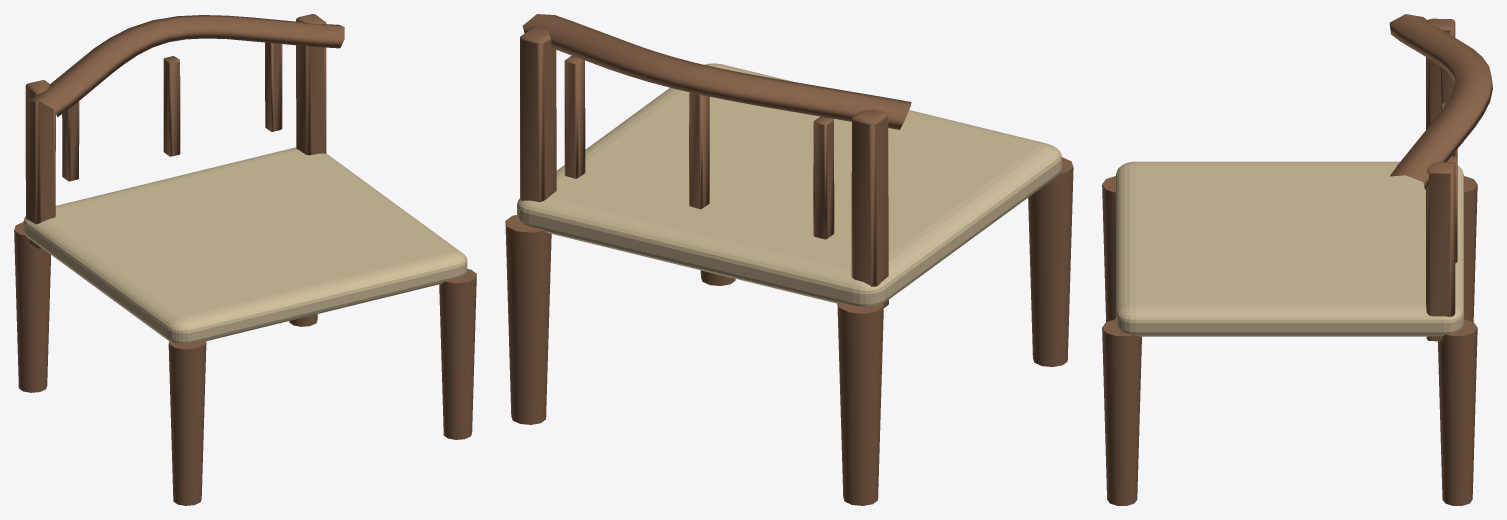
The model's file is chair-6-1.lod.glb.
3 views of the same model, side by side, from view 1: azimuth 30°, elevation 25°; view 2: azimuth 150°, elevation 25°; view 3: azimuth 270°, elevation 25° (orthographic). The views are drawn at different scales.
Parts seen in each view (by area): view 1: tailored-cushion, part; view 2: tailored-cushion, part; view 3: tailored-cushion, part.
Boxes of the visible parts, x1=… form: tailored-cushion: x1=23, y1=147, x2=467, y2=343; part: x1=14, y1=14, x2=476, y2=505; tailored-cushion: x1=517, y1=63, x2=1061, y2=306; part: x1=505, y1=14, x2=1073, y2=505; tailored-cushion: x1=1116, y1=161, x2=1463, y2=336; part: x1=1102, y1=14, x2=1492, y2=505.
Size of the model in its own units: 1 by 1 by 1.
